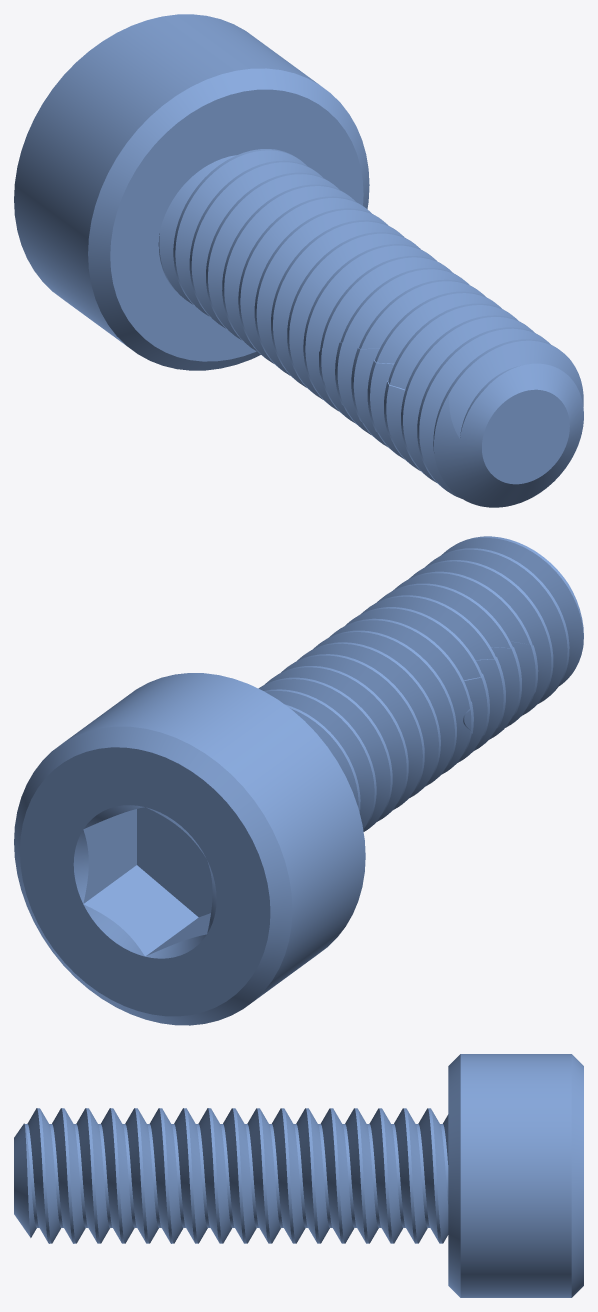
The picture shows the model from 3 angles, top to bottom: view 1: azimuth 30°, elevation 25°; view 2: azimuth 150°, elevation 25°; view 3: azimuth 270°, elevation 25°; orthographic projection. The views are drawn at different scales.
Parts seen in each view (by area): view 1: mesh9755, mesh9759, mesh9757, mesh9758, mesh9735, mesh9733, mesh9732, mesh9756, mesh9739, mesh9751, mesh9743, mesh9747 (+5 smaller); view 2: mesh9761, mesh9759, mesh9753, mesh9760, mesh9737, mesh9770, mesh9766, mesh9756, mesh9768, mesh9741, mesh9749, mesh9745 (+8 smaller); view 3: mesh9759, mesh9753, mesh9755, mesh9756, mesh9754, mesh9737, mesh9735, mesh9760, mesh9758, mesh9734, mesh9733, mesh9741 (+15 smaller).
Part boxes in pixels (<box>): mesh9755: <box>159,150,453,411</box>; mesh9759: <box>14,14,318,348</box>; mesh9757: <box>110,89,363,361</box>; mesh9758: <box>88,68,369,370</box>; mesh9735: <box>391,317,583,498</box>; mesh9733: <box>434,363,583,507</box>; mesh9732: <box>482,389,569,484</box>; mesh9756: <box>158,149,441,405</box>; mesh9739: <box>379,305,518,459</box>; mesh9751: <box>324,269,469,423</box>; mesh9743: <box>364,293,501,447</box>; mesh9747: <box>345,281,485,435</box>; mesh9761: <box>20,747,270,1016</box>; mesh9759: <box>65,673,365,1004</box>; mesh9753: <box>259,608,480,831</box>; mesh9760: <box>14,726,292,1025</box>; mesh9737: <box>409,538,583,727</box>; mesh9770: <box>137,807,212,917</box>; mesh9766: <box>83,865,198,956</box>; mesh9756: <box>259,618,471,830</box>; mesh9768: <box>83,809,136,903</box>; mesh9741: <box>393,573,529,739</box>; mesh9749: <box>361,596,493,762</box>; mesh9745: <box>377,585,510,751</box>; mesh9759: <box>460,1054,571,1297</box>; mesh9753: <box>187,1109,448,1243</box>; mesh9755: <box>198,1108,448,1242</box>; mesh9756: <box>208,1108,442,1243</box>; mesh9754: <box>196,1124,448,1227</box>; mesh9737: <box>24,1109,109,1243</box>; mesh9735: <box>27,1108,96,1242</box>; mesh9760: <box>571,1054,583,1297</box>; mesh9758: <box>448,1054,460,1297</box>; mesh9734: <box>37,1108,100,1243</box>; mesh9733: <box>14,1123,30,1237</box>; mesh9741: <box>114,1110,134,1243</box>.
Bounding box in the file's own units: 0.0045 × 0.00449 × 0.0105.
